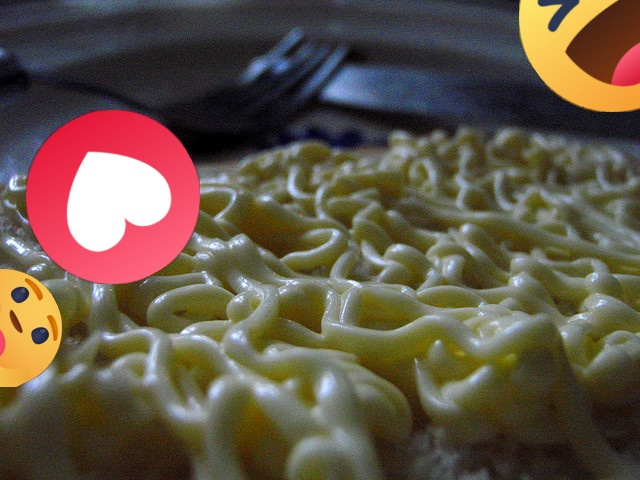care: (0, 269, 62, 387)
haha: (519, 0, 640, 112)
love: (26, 110, 200, 284)
